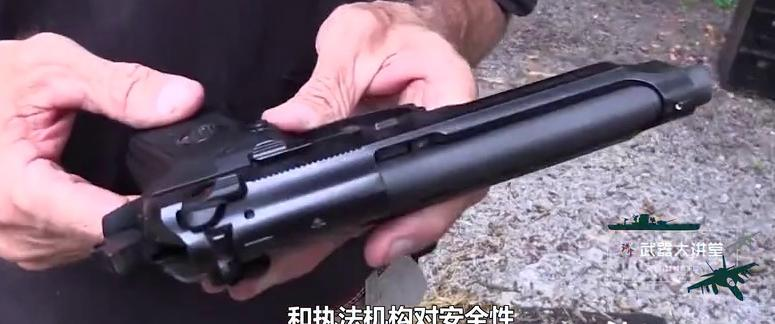gun: (1, 0, 775, 324)
